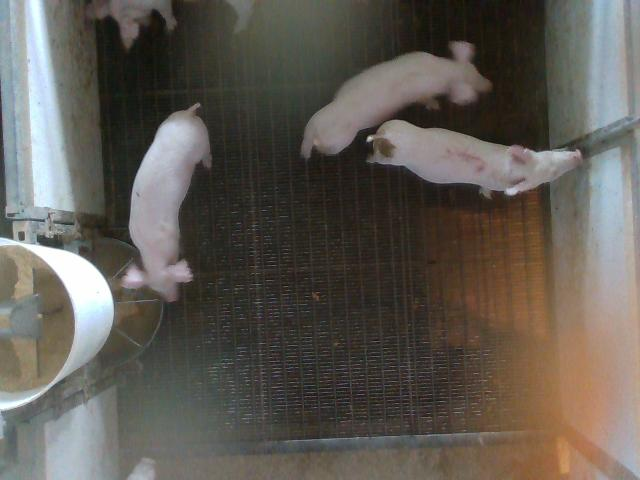pig-5: (368, 120, 582, 197)
